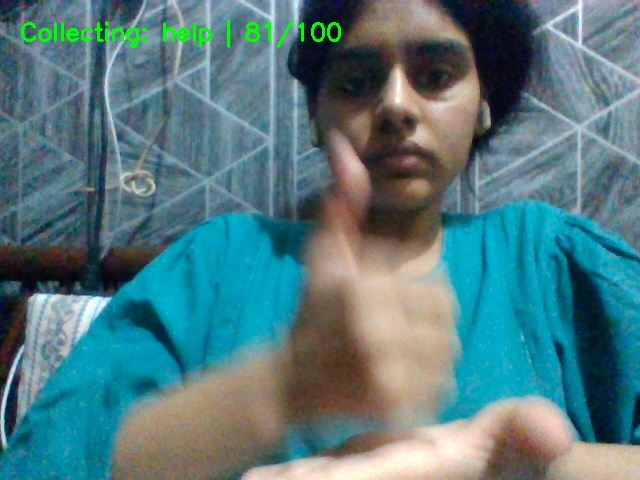help: (266, 115, 565, 477)
